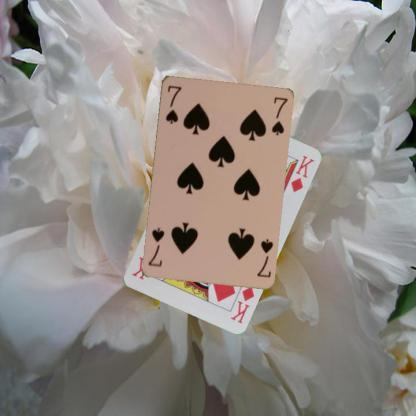7s: (162, 82, 183, 125), (254, 236, 274, 278)
Kd: (228, 283, 257, 325)
